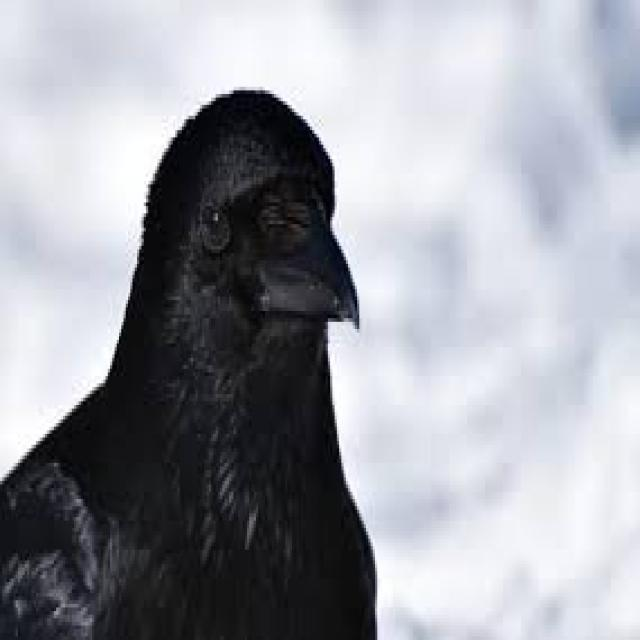crow: (142, 120, 351, 467)
